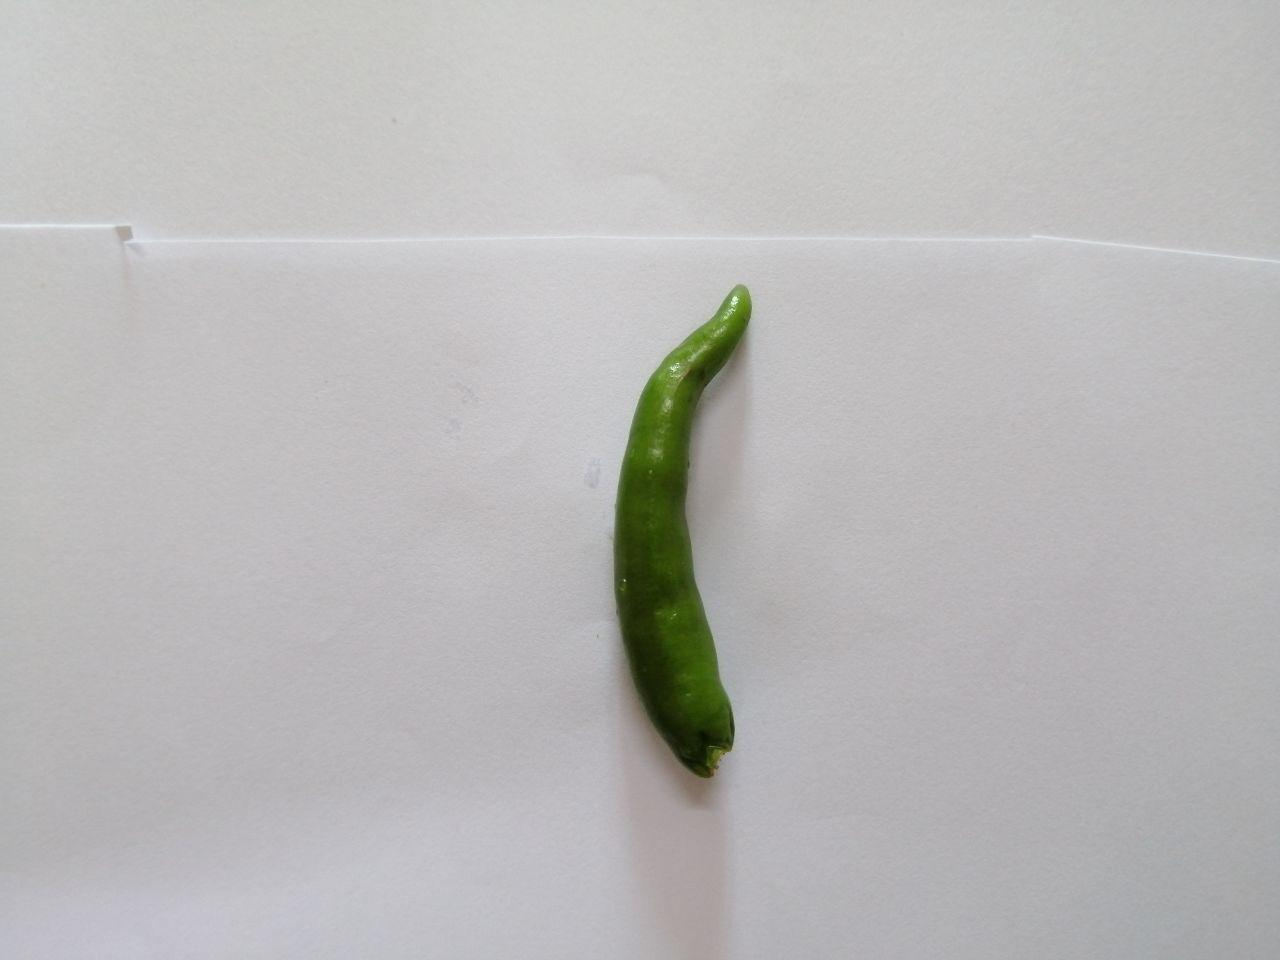lada hijau: (587, 255, 803, 799)
